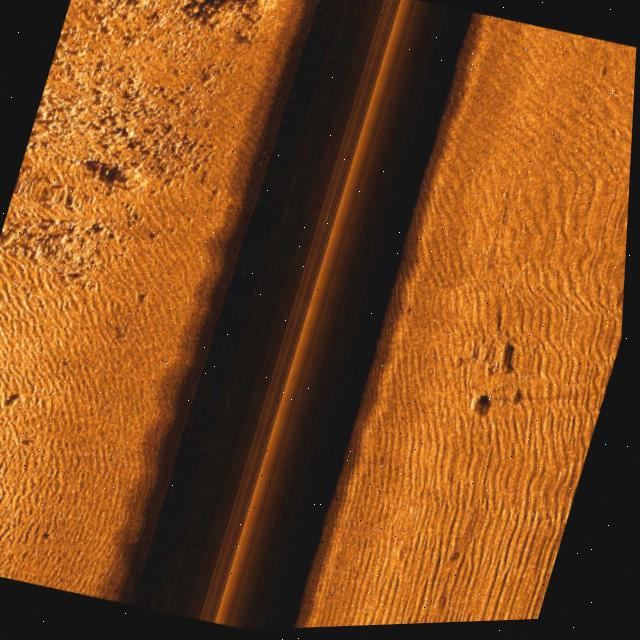artificial reef: (263, 0, 332, 18)
